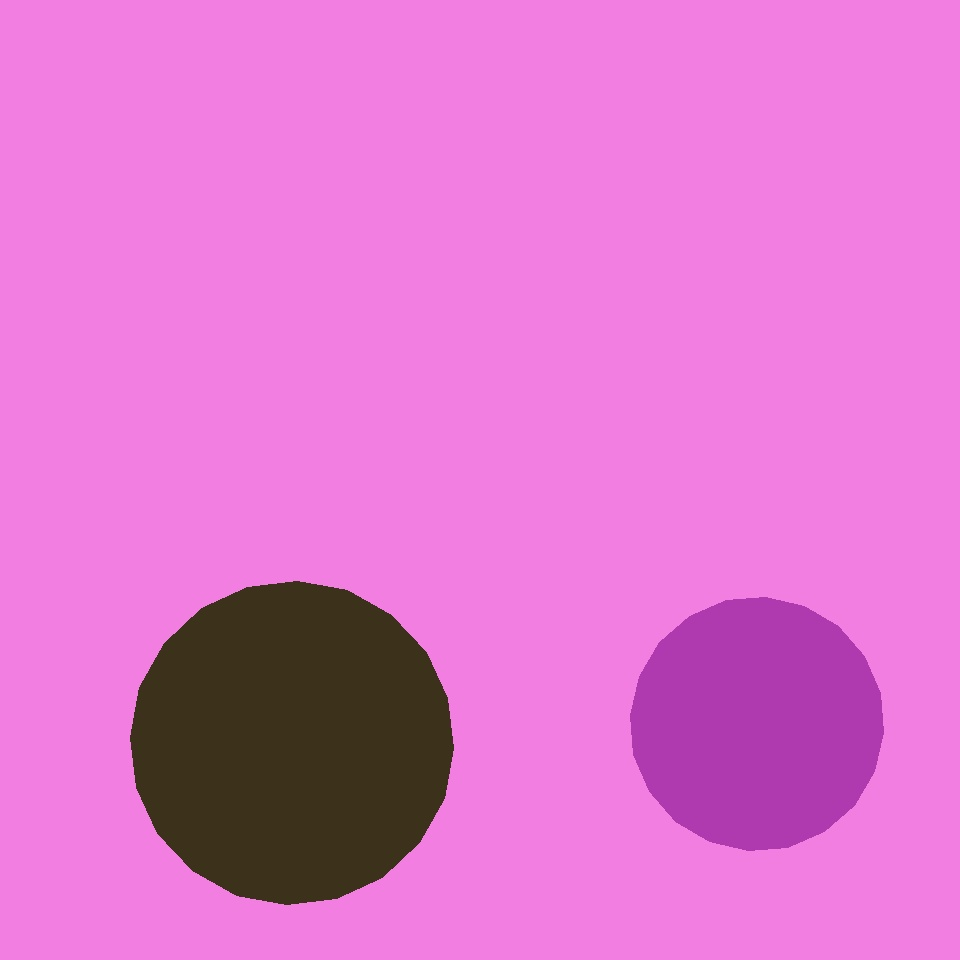circle: (685, 542, 885, 752), (750, 760, 859, 860)
triangle: (130, 582, 454, 904), (630, 597, 884, 850)
